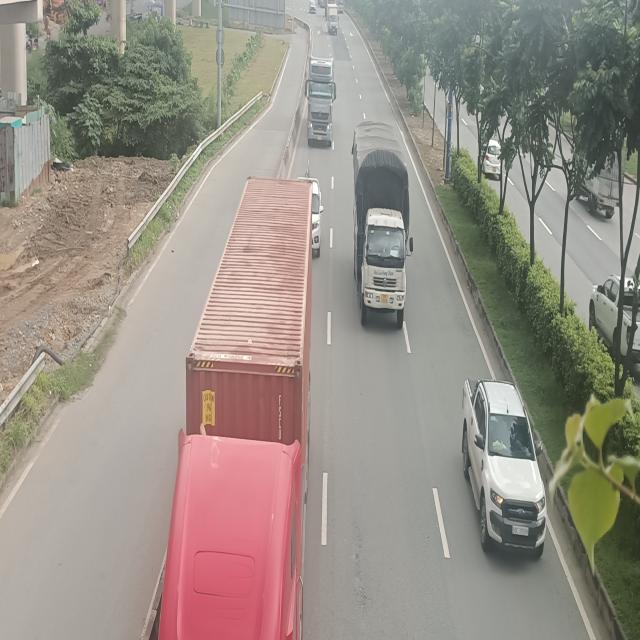car: (460, 376, 547, 560)
container: (158, 178, 313, 640), (304, 55, 337, 148)
truck: (350, 123, 414, 330)
van: (329, 10, 339, 34)
